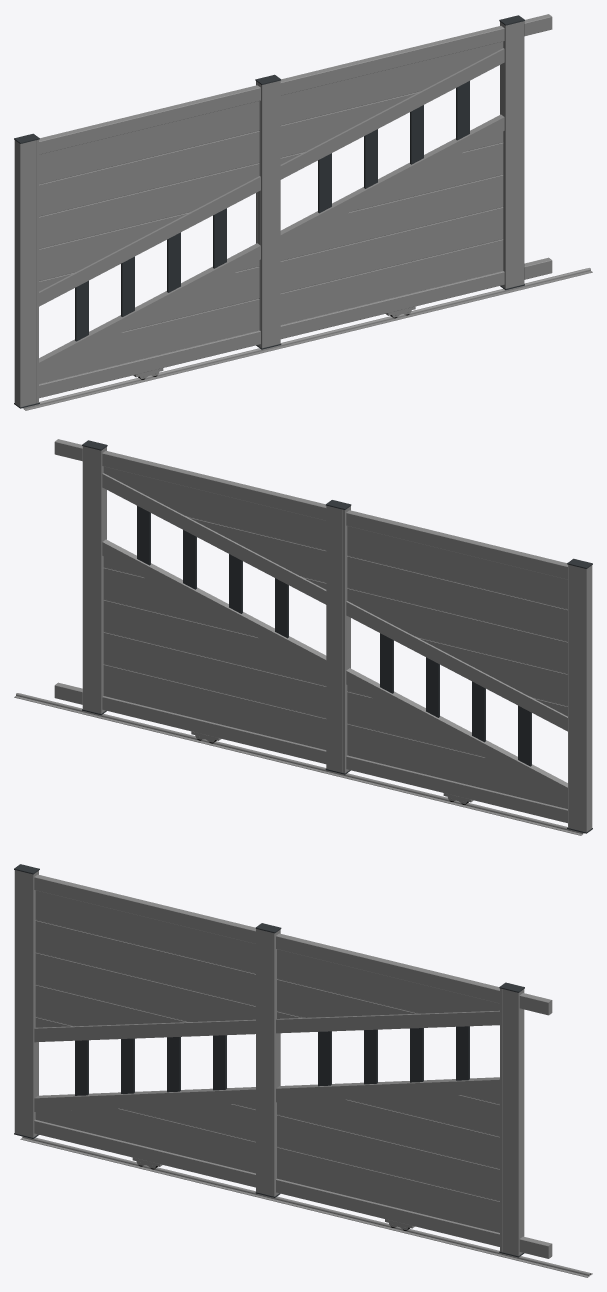
3 views of the same model, one above another, from view 1: azimuth 30°, elevation 25°; view 2: azimuth 150°, elevation 25°; view 3: azimuth 330°, elevation 25° (orthographic).
Visible parts, largest first — view 1: Line043, Line034, Line042, Line035, Line045, Rectangle064, Rectangle065, Line044, Line041, Line036, Shape107412643, Shape107413021 (+12 smaller); view 2: Line043, Line034, Line042, Line035, Line045, Rectangle064, Rectangle065, Line044, Line041, Line036, Shape107412643, Shape107413022 (+12 smaller); view 3: Line043, Line034, Line035, Line042, Rectangle064, Line045, Rectangle065, Line041, Line036, Line044, Shape107413021, Shape107412643 (+12 smaller).
Part boxes in pixels (<box>): Line043: <box>39,239,503,383</box>; Line034: <box>39,41,503,184</box>; Line042: <box>124,207,503,331</box>; Line035: <box>39,92,418,216</box>; Line045: <box>39,114,504,376</box>; Rectangle064: <box>39,14,552,154</box>; Rectangle065: <box>39,257,552,398</box>; Line044: <box>39,48,504,306</box>; Line041: <box>237,175,503,271</box>; Line036: <box>39,152,303,249</box>; Shape107412643: <box>14,139,38,407</box>; Shape107413021: <box>500,21,524,288</box>; Line043: <box>103,664,567,808</box>; Line034: <box>103,466,567,609</box>; Line042: <box>103,632,482,756</box>; Line035: <box>188,517,567,641</box>; Line045: <box>102,539,567,801</box>; Rectangle064: <box>54,439,567,579</box>; Rectangle065: <box>54,682,567,823</box>; Line044: <box>102,473,567,731</box>; Line041: <box>103,600,369,696</box>; Line036: <box>303,577,567,674</box>; Shape107412643: <box>568,564,592,832</box>; Shape107413022: <box>326,505,350,773</box>; Line043: <box>35,1108,499,1232</box>; Line034: <box>35,890,499,1013</box>; Line035: <box>35,920,416,1017</box>; Line042: <box>120,1104,499,1201</box>; Rectangle064: <box>34,874,552,1015</box>; Line045: <box>34,1077,499,1111</box>; Rectangle065: <box>34,1119,552,1258</box>; Line041: <box>233,1099,499,1169</box>; Line036: <box>35,953,302,1021</box>; Line044: <box>34,1010,499,1042</box>; Shape107413021: <box>500,988,524,1255</box>; Shape107412643: <box>14,870,38,1137</box>.
Bounding box in the file's own units: 3638 × 1636 × 70.
Materials: 7 (3 with a texture image).
